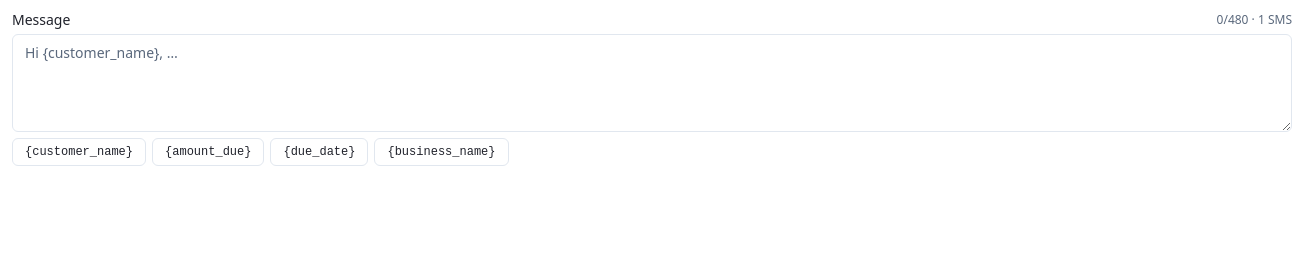
Scenario: MessageComposer › inserts placeholder chips
The image size is (1304, 269).
What coordinates should you click on to do the following:
click the button "{amount_due}"
I would click on:
 (208, 152)
Its box is [152,138,264,166].
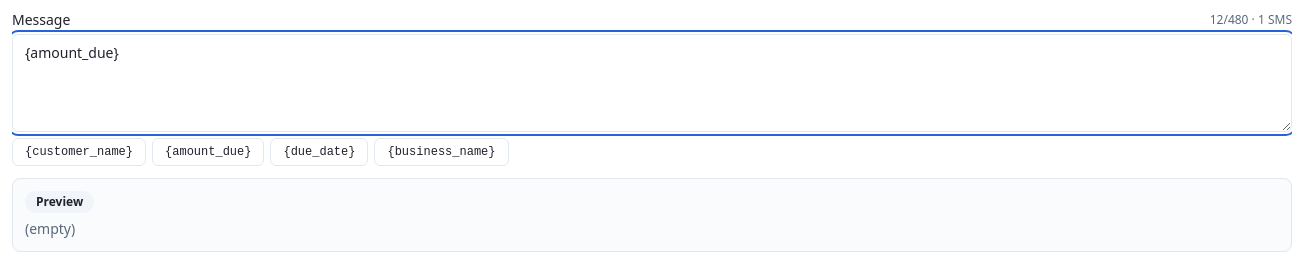
Now the text box labelled "Message" holds "{amount_due}", box [12,34,1292,132]
